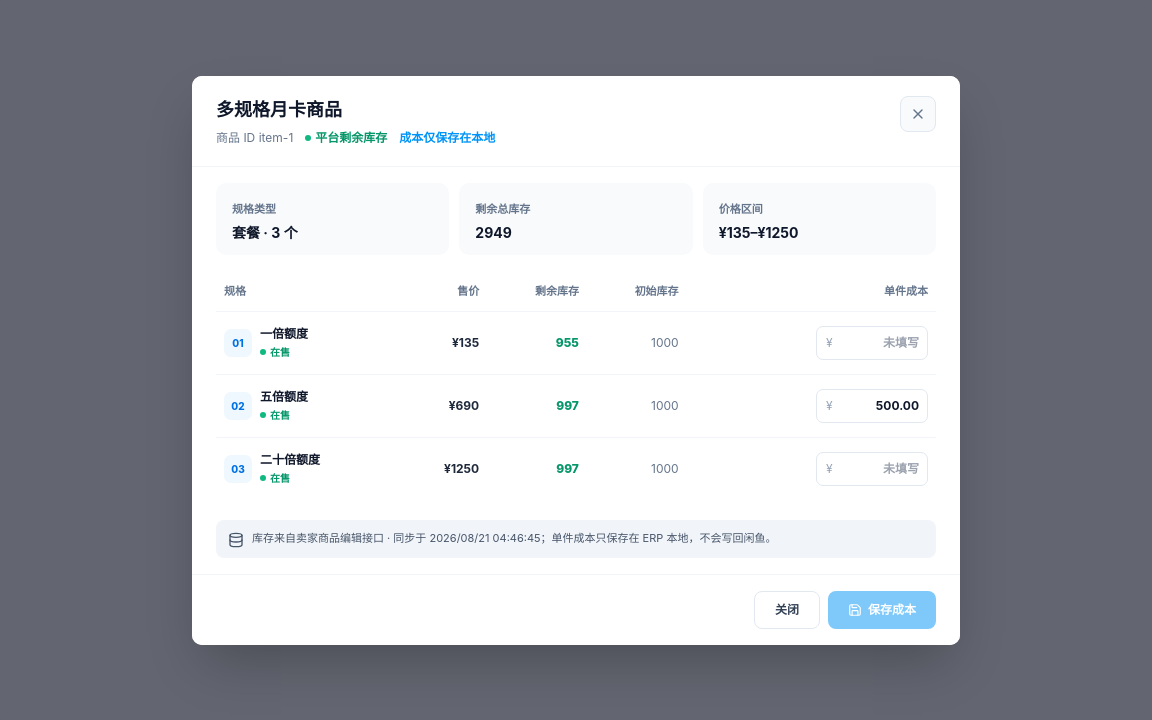
Test: 商品规格展示与统一成本保存 › 多规格成本只通过右下角按钮一次性原子提交
The width and height of the screenshot is (1152, 720).
Type "88.50" into the field named "一倍额度单件成本".
click(872, 342); type("88.50")  # box [816,326,928,360]
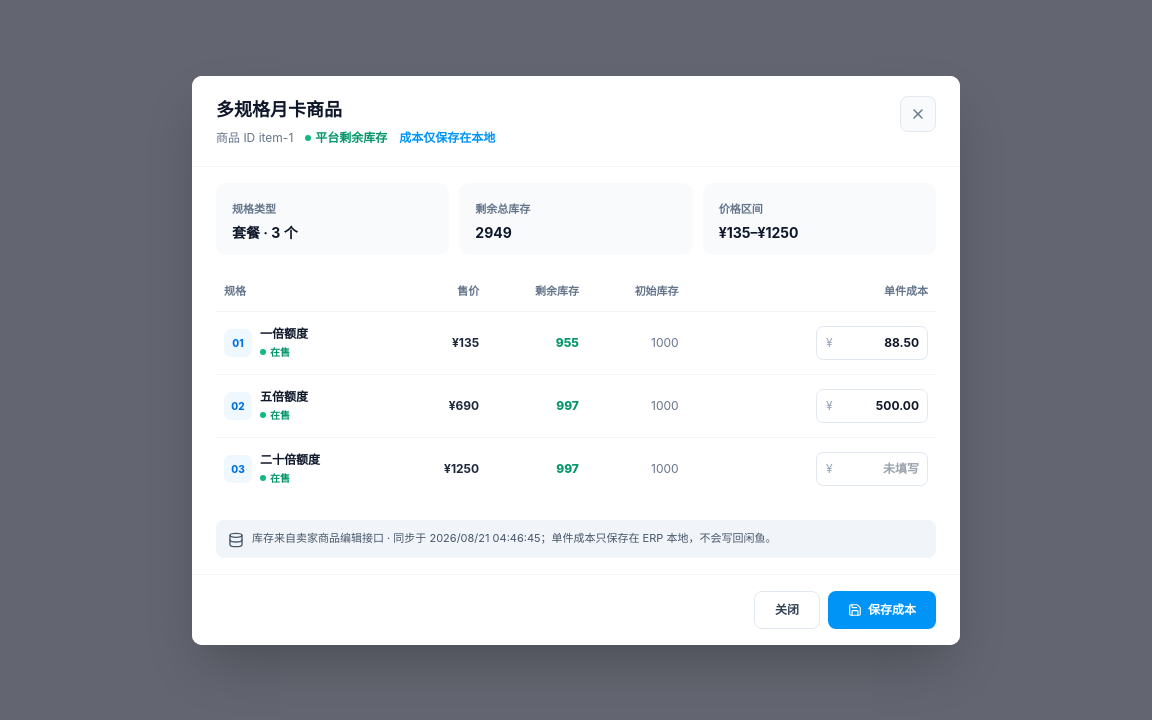
Replace the text in the field named "五倍额度单件成本" with "630.00" at (872, 406), box [816,388,928,422]
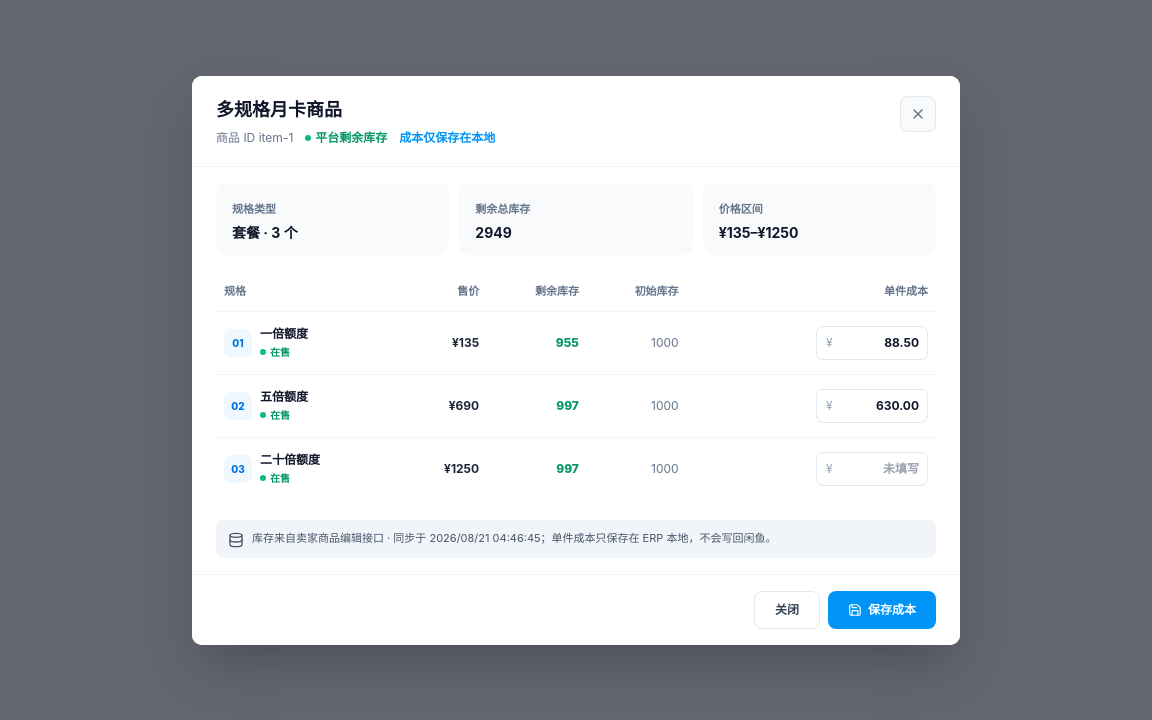
Click the button "保存成本".
click(882, 610)  # box [828,590,936,628]
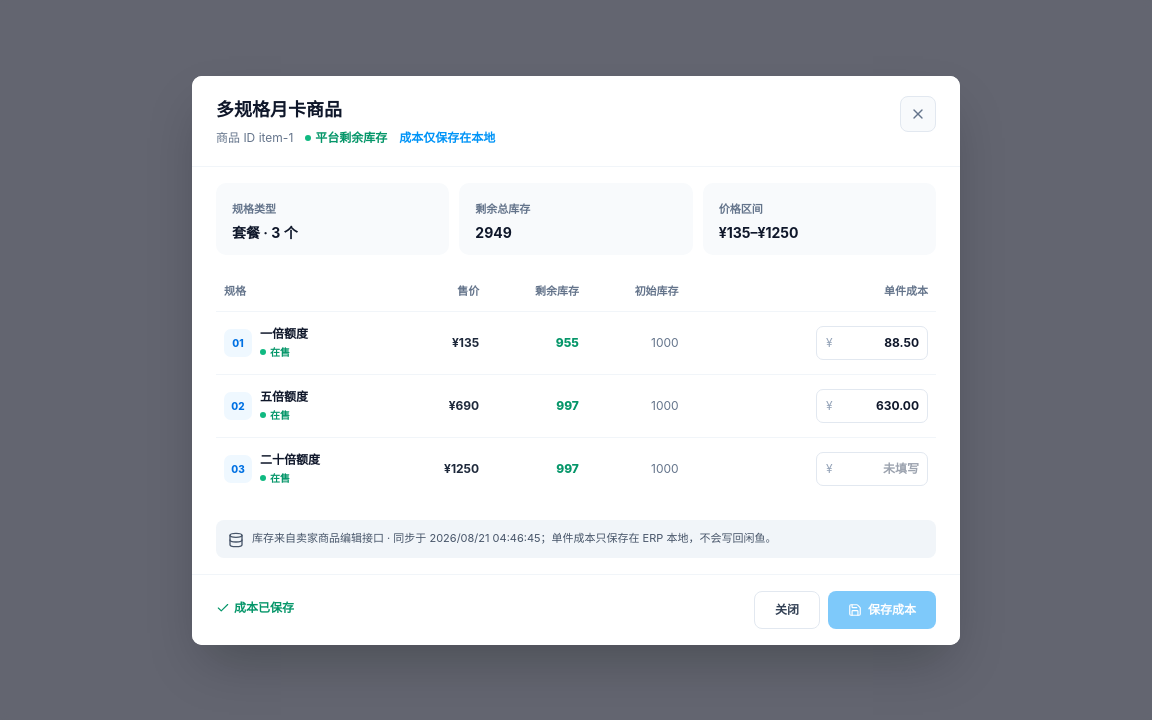
Check: the text "成本已保存" is shown, box [216,600,294,616]
